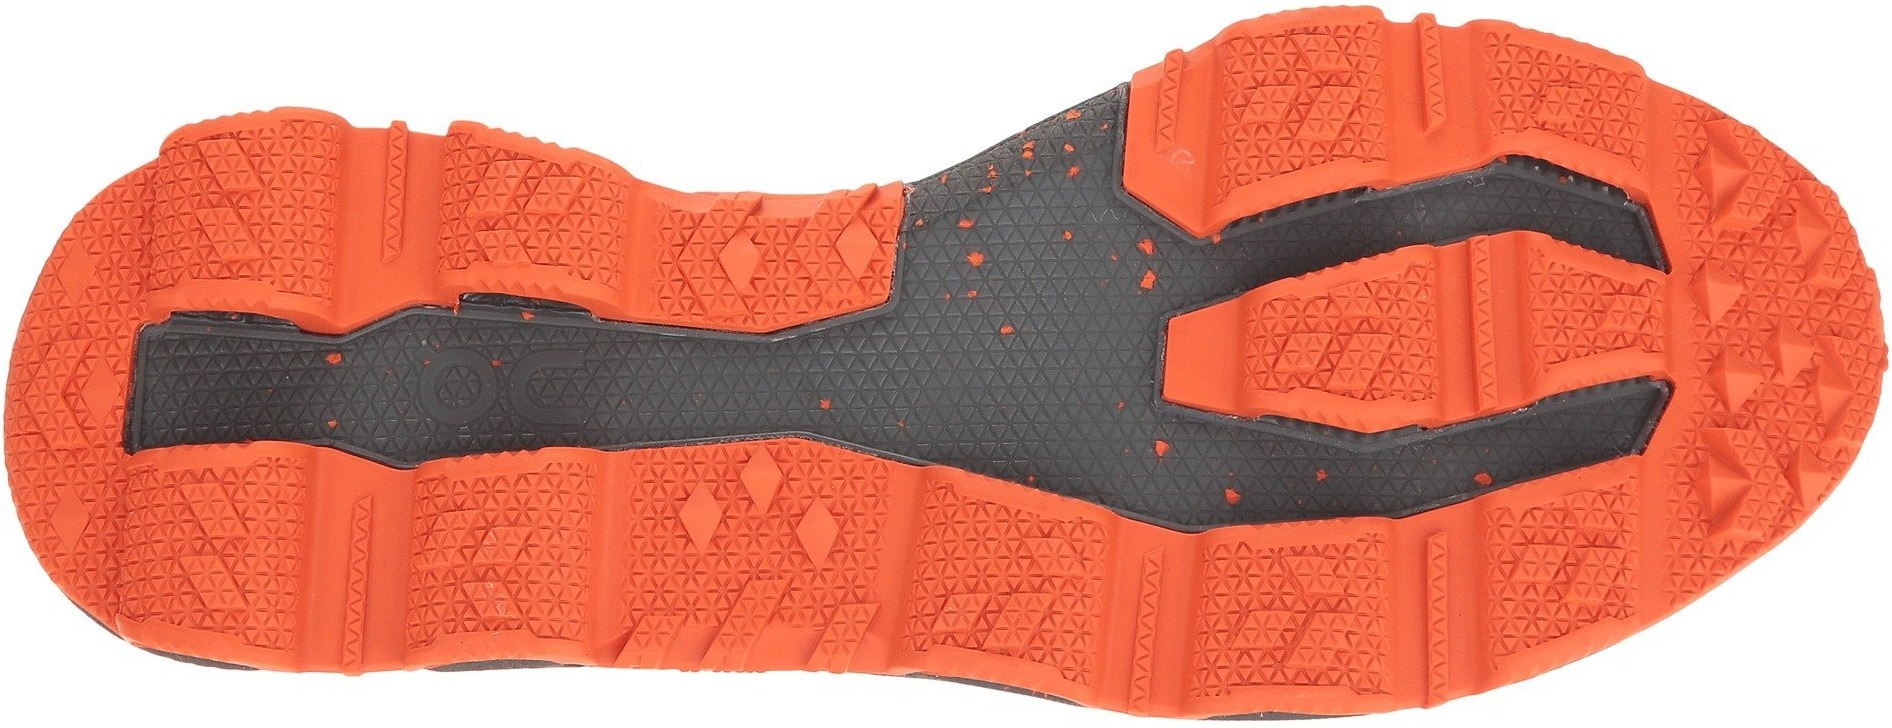chevron: (1665, 429, 1836, 600), (1, 327, 133, 453), (670, 209, 786, 310)
circle: (404, 298, 605, 471)
quad: (633, 450, 843, 654), (134, 458, 298, 621), (1259, 305, 1409, 424), (436, 134, 566, 239), (670, 209, 786, 310)
ribbon: (1155, 225, 1421, 481), (1516, 120, 1684, 302), (1450, 367, 1621, 526)
text: (404, 298, 605, 471)
triangle: (894, 212, 1164, 466), (633, 450, 843, 654), (1666, 237, 1869, 445), (404, 298, 605, 471), (1665, 429, 1836, 600), (134, 458, 298, 621), (171, 121, 319, 283), (1228, 27, 1376, 165), (1259, 305, 1409, 424), (1224, 551, 1357, 679), (1, 327, 133, 453), (436, 134, 566, 239), (670, 209, 786, 310), (697, 348, 777, 426)
